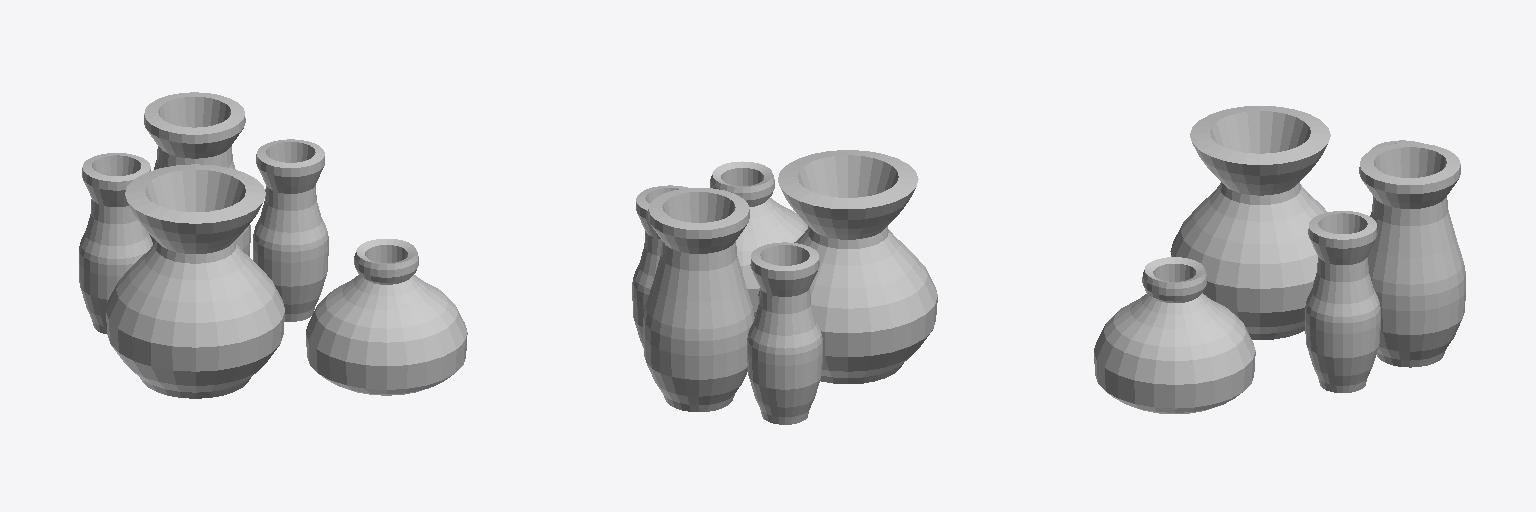
File: pots.obj
3 views of the same model, side by side, from view 1: azimuth 30°, elevation 25°; view 2: azimuth 150°, elevation 25°; view 3: azimuth 270°, elevation 25° (orthographic).
Parts seen in each view (by area): view 1: pots_Cylinder.020; view 2: pots_Cylinder.020; view 3: pots_Cylinder.020.
Part boxes in pixels (x1,y1,x2,y2): pots_Cylinder.020: (79,92,467,398); pots_Cylinder.020: (632,150,937,424); pots_Cylinder.020: (1094,106,1465,413).
Size of the model in its own units: 1.6 by 0.9821 by 1.74.